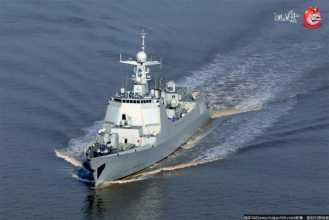warship: (78, 27, 206, 184)
